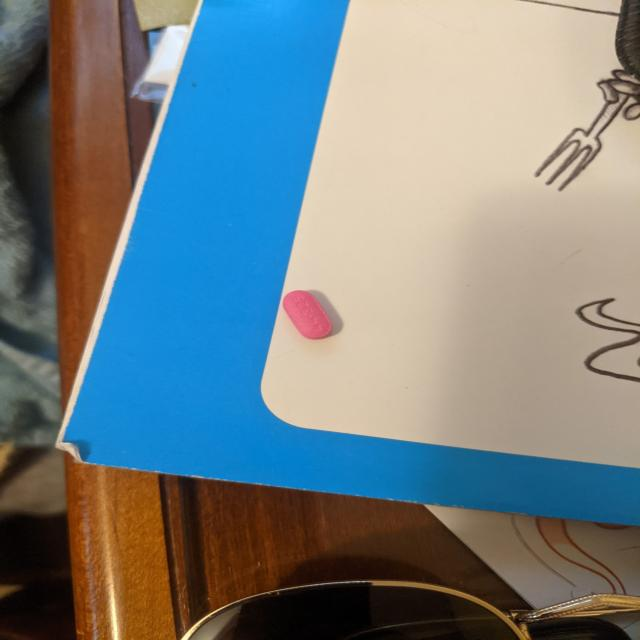non-organic waste: (282, 289, 333, 340)
